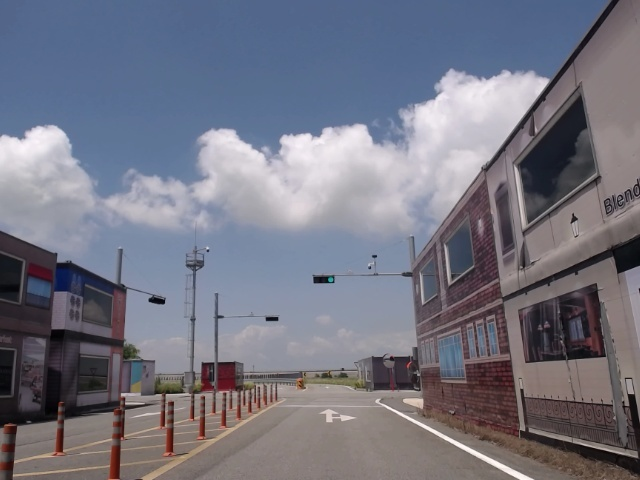green_3: (312, 274, 335, 283)
